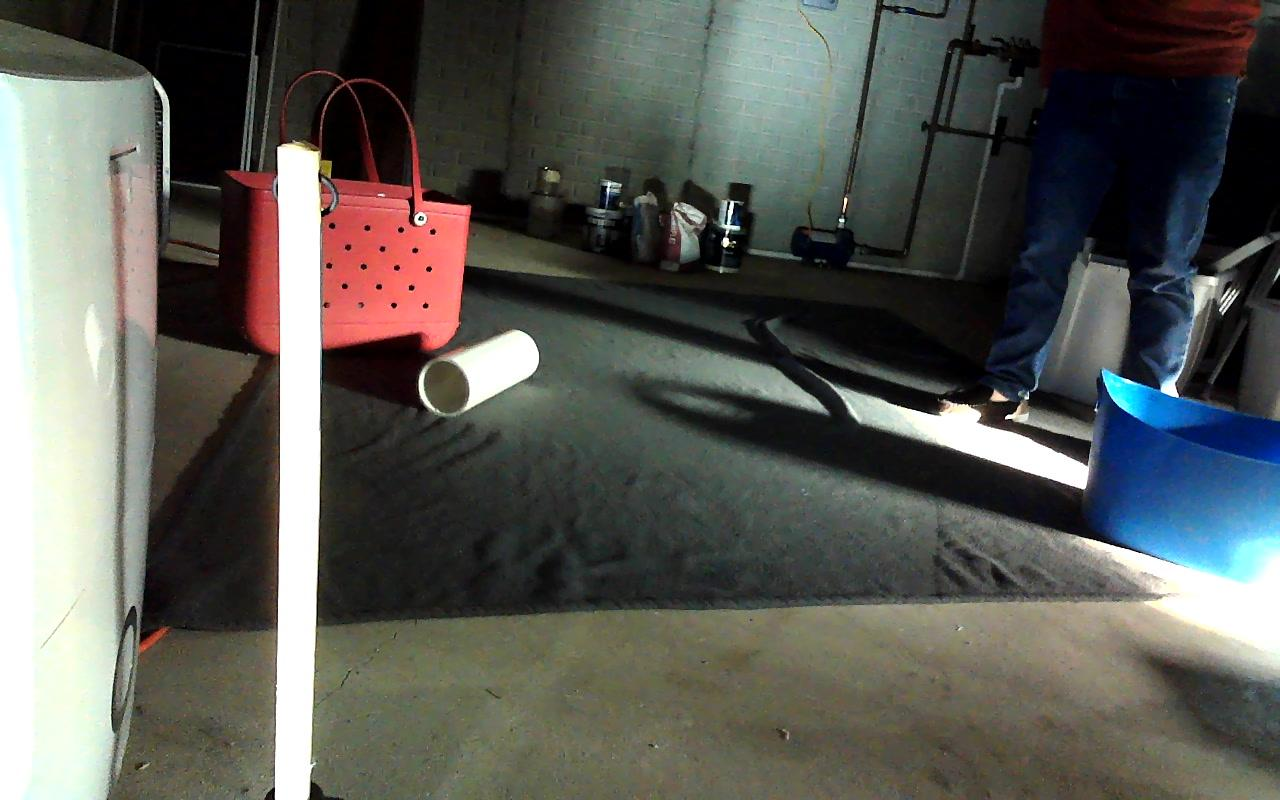coral: (418, 330, 538, 415)
